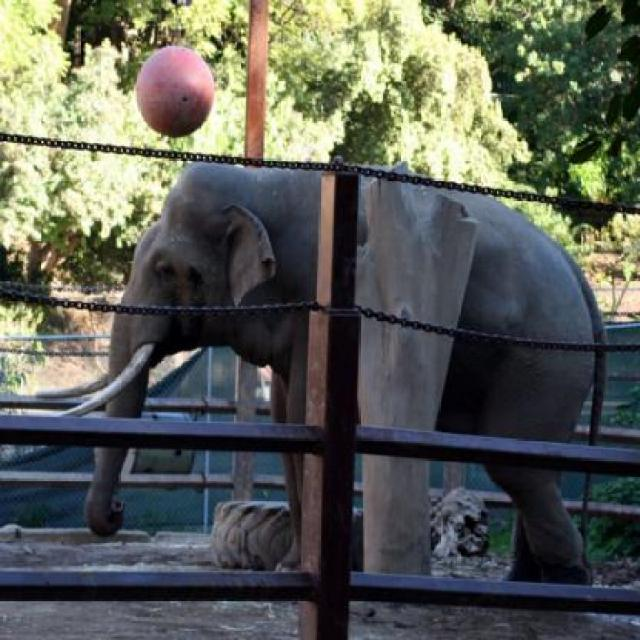Elephant: (58, 143, 608, 579)
